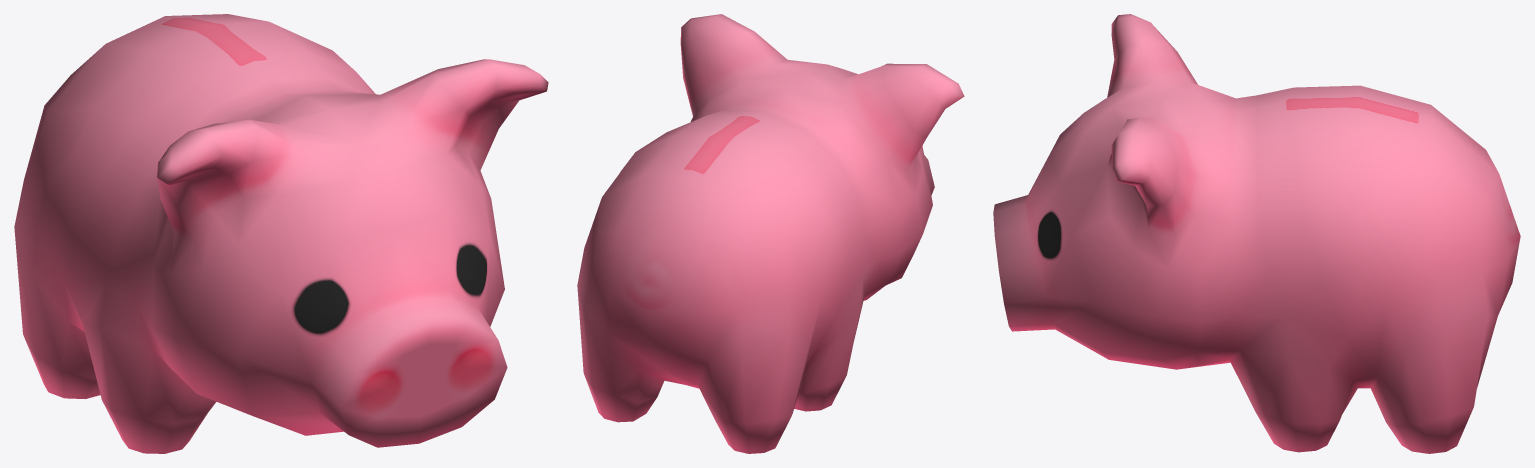
Rendered from piggy.glb.
3 renders of one model, left to right at view 1: azimuth 30°, elevation 25°; view 2: azimuth 150°, elevation 25°; view 3: azimuth 270°, elevation 25°, orthographic. The views are drawn at different scales.
Visible parts, largest first — view 1: PiggyBank; view 2: PiggyBank; view 3: PiggyBank.
Boxes of the visible parts, <box> form: PiggyBank: <box>14,14,548,453</box>; PiggyBank: <box>577,14,964,453</box>; PiggyBank: <box>993,14,1520,453</box>.
Size of the model in its own units: 0.8583 by 0.839 by 1.21.
1 material, 1 textured.
